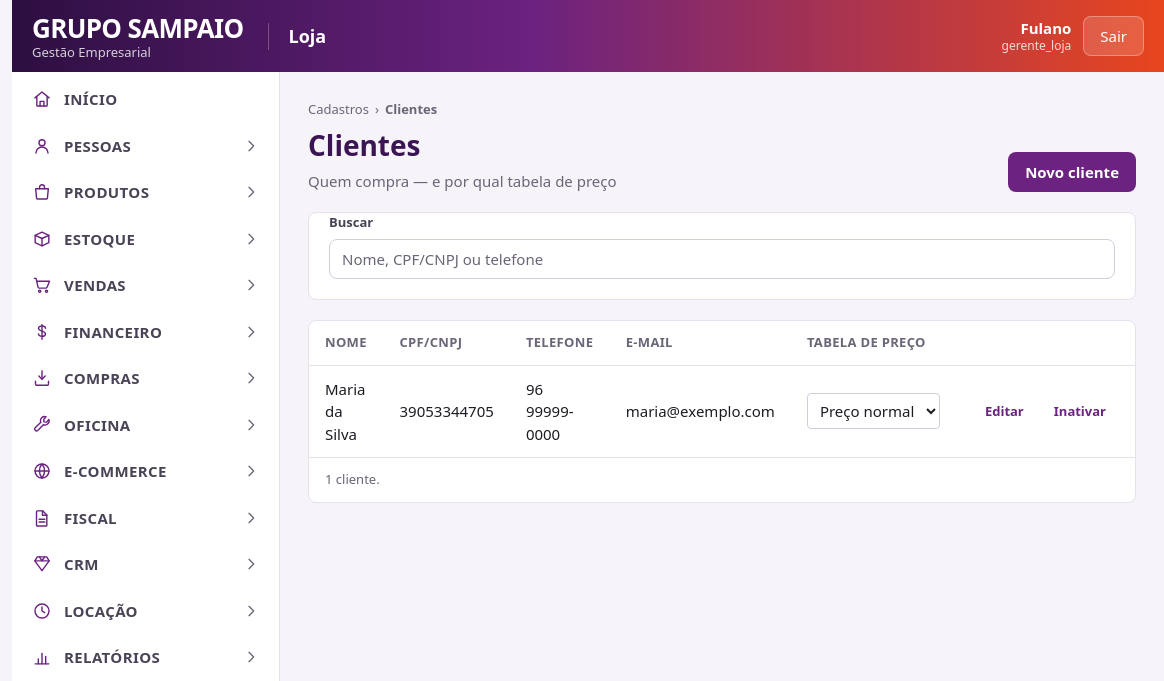
quem vê os direitos do titular › a gerência encontra o bloco na ficha aberta
Click the button with aria-label "Editar cadastro de Maria da Silva" at (1004, 411), box [972,394,1037,428]
(page scrolled)
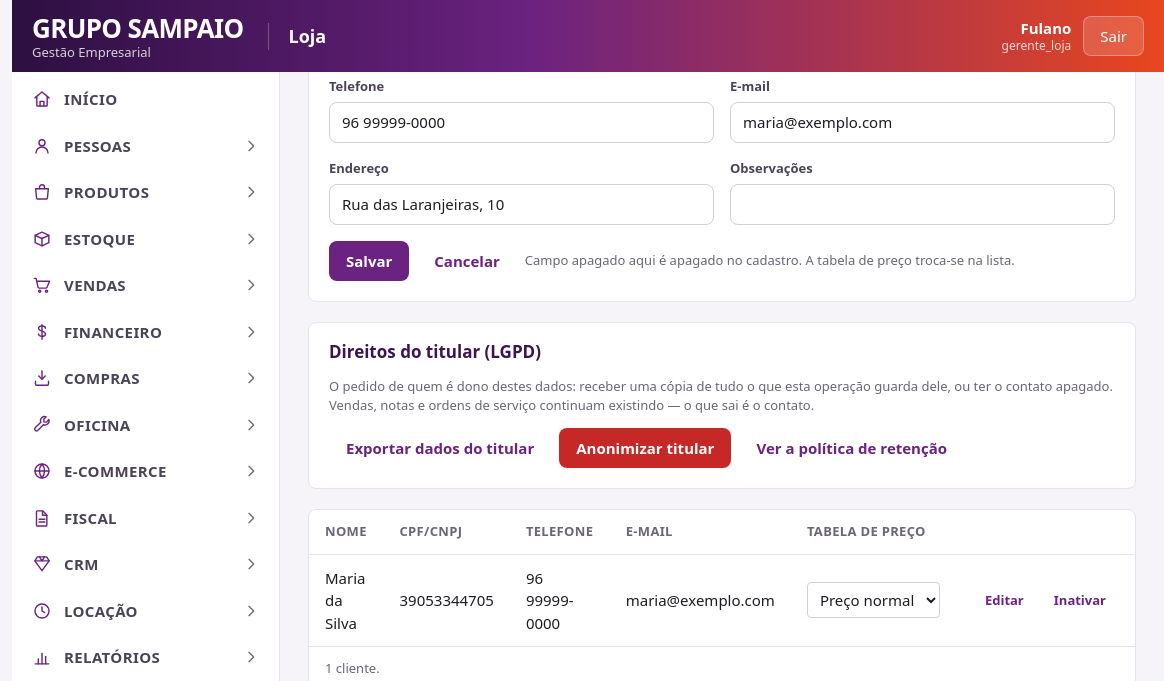
expect the field labelled "Telefone" holds "96 99999-0000": met, box [329,102,714,142]
expect the heading "Direitos do titular (LGPD)" is shown: met, box [329,339,541,364]
expect the button "Exportar dados do titular" is shown: met, box [329,428,551,468]
